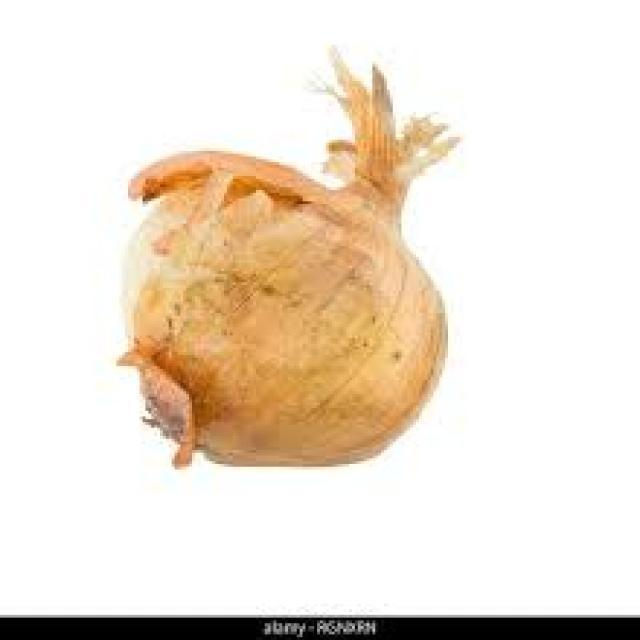Onion: (114, 40, 463, 468)
